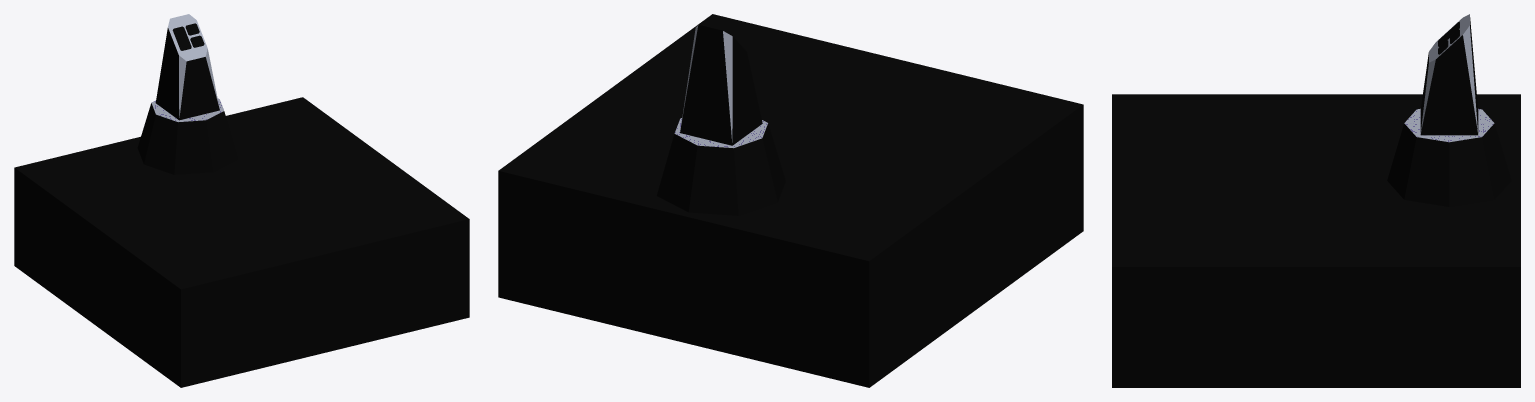
File: Elevator.fbx
3 renders of one model, left to right at view 1: azimuth 30°, elevation 25°; view 2: azimuth 150°, elevation 25°; view 3: azimuth 270°, elevation 25°, orthographic. The views are drawn at different scales.
Parts seen in each view (by area): view 1: Body, Controller; view 2: Body, Controller; view 3: Body, Controller.
Boxes of the visible parts, left/top/right/bottom form: Body: left=14, top=97, right=469, bottom=387; Controller: left=137, top=14, right=237, bottom=174; Body: left=498, top=14, right=1083, bottom=387; Controller: left=657, top=25, right=785, bottom=215; Body: left=1112, top=94, right=1520, bottom=387; Controller: left=1387, top=14, right=1511, bottom=206.
Bounding box in the file's own units: 3.56 × 2.71 × 3.56.
Materials: 1 (1 with a texture image).
